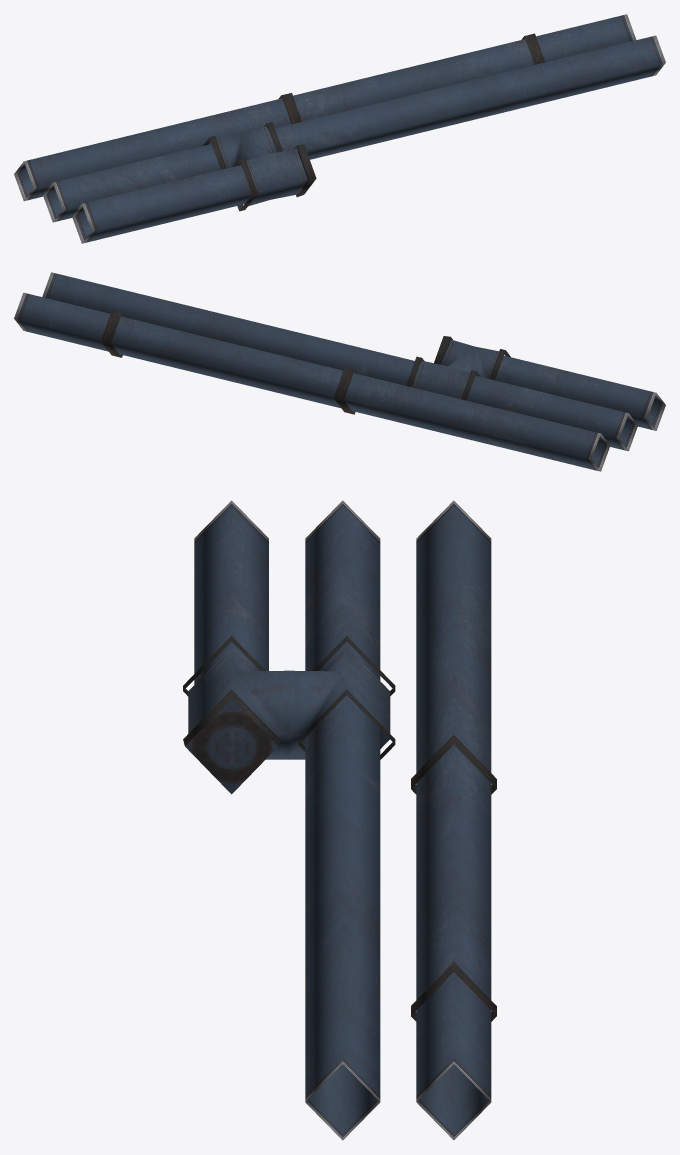
File: PIpe3_G_L2.fbx
The picture shows the model from 3 angles, top to bottom: view 1: azimuth 30°, elevation 25°; view 2: azimuth 150°, elevation 25°; view 3: azimuth 270°, elevation 25°; orthographic projection. The views are drawn at different scales.
Parts seen in each view (by area): view 1: PIpe3_G_L2; view 2: PIpe3_G_L2; view 3: PIpe3_G_L2.
Boxes of the visible parts, box(x1,y1,x2,y2) form: PIpe3_G_L2: box(14, 14, 665, 243); PIpe3_G_L2: box(14, 272, 665, 471); PIpe3_G_L2: box(183, 500, 496, 1140).
Bounding box in the file's own units: 200 × 16.52 × 47.06.
